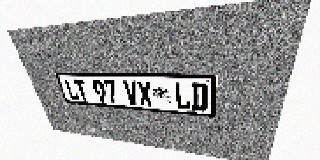7: (103, 80, 120, 104)
9: (91, 80, 108, 103)
D: (191, 83, 208, 111)
L: (174, 82, 191, 110), (63, 79, 80, 100)
T: (73, 79, 90, 101)
V: (123, 81, 140, 105)
X: (136, 81, 153, 107)
